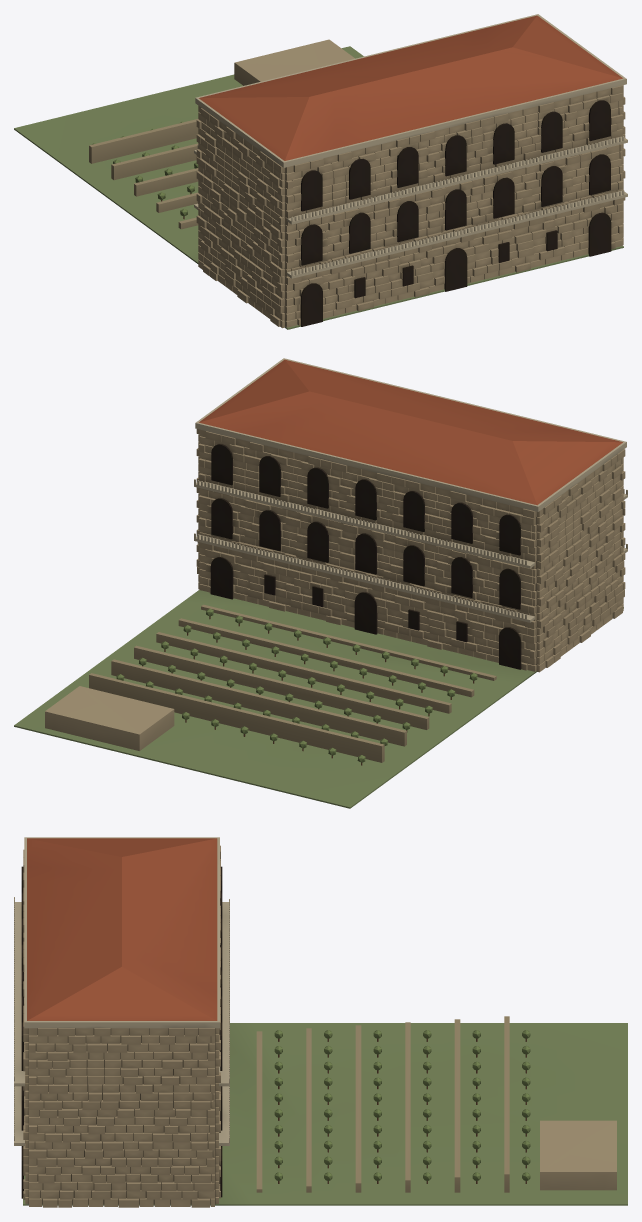
File: palazzo-pitti.glb
The picture shows the model from 3 angles, top to bottom: view 1: azimuth 30°, elevation 25°; view 2: azimuth 150°, elevation 25°; view 3: azimuth 270°, elevation 25°; orthographic projection. The views are drawn at different scales.
Parts seen in each view (by area): view 1: p1_palace, p0_ground, p2_hillside; view 2: p1_palace, p0_ground, p2_hillside; view 3: p1_palace, p0_ground, p2_hillside.
Boxes of the visible parts, bbox=[...] form: p1_palace: bbox=[194, 14, 627, 328]; p0_ground: bbox=[14, 46, 623, 329]; p2_hillside: bbox=[89, 39, 354, 229]; p1_palace: bbox=[194, 358, 627, 672]; p0_ground: bbox=[14, 590, 623, 808]; p2_hillside: bbox=[45, 604, 496, 765]; p1_palace: bbox=[14, 837, 229, 1207]; p0_ground: bbox=[23, 1023, 627, 1205]; p2_hillside: bbox=[256, 1016, 616, 1192].
Bounding box in the file's own units: 79.92 × 40.8 × 112.
